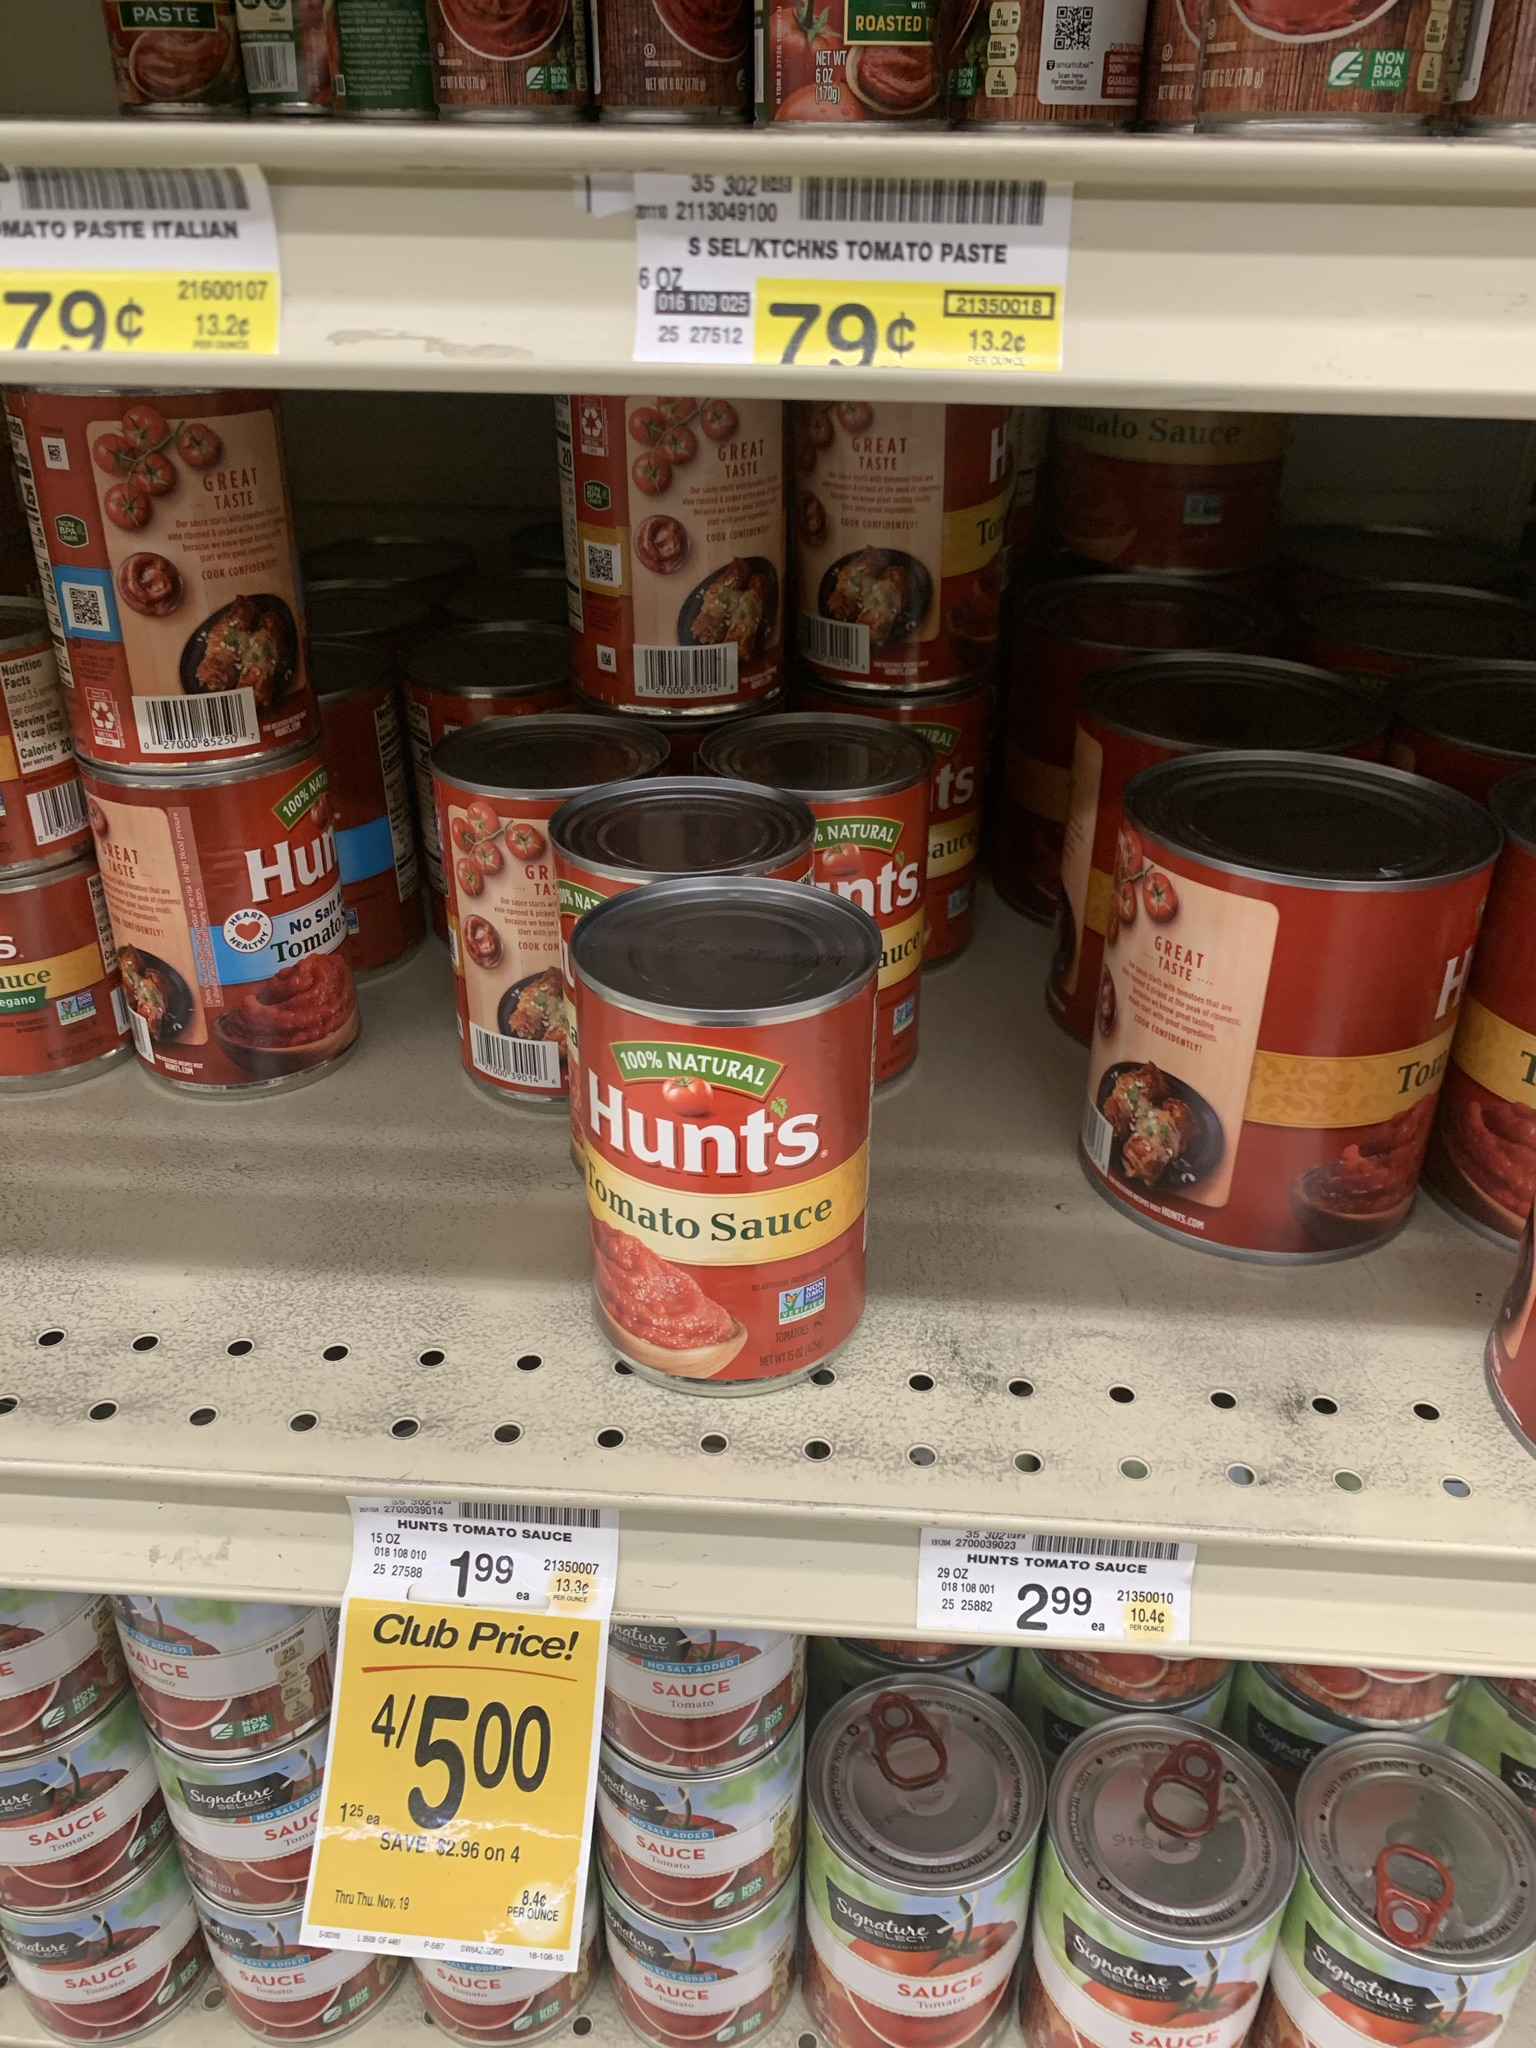can: (1121, 819, 1426, 1226), (592, 935, 863, 1340), (68, 432, 284, 753), (97, 787, 318, 1087), (566, 402, 771, 718), (831, 1740, 1012, 2037), (1078, 1771, 1255, 2048), (799, 419, 984, 684), (1326, 1784, 1513, 2033), (444, 789, 561, 1066), (603, 1771, 787, 1906), (142, 1608, 318, 1740), (615, 1642, 778, 1755), (3, 1755, 127, 1893), (623, 1934, 783, 2027), (10, 1913, 169, 2006), (184, 1774, 311, 1887), (216, 1940, 366, 2017)
